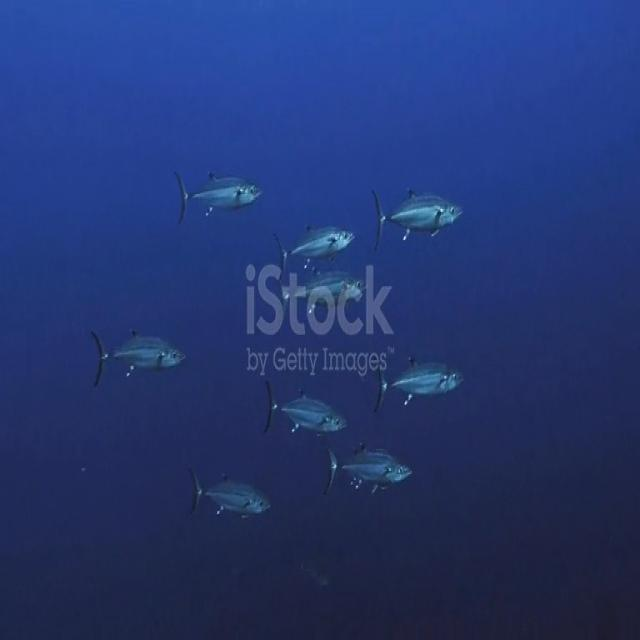fish: (369, 187, 466, 256), (258, 373, 352, 444), (90, 323, 188, 385), (322, 434, 416, 498), (369, 360, 467, 416), (189, 463, 272, 524), (170, 175, 270, 224), (284, 266, 371, 314), (273, 228, 360, 274)
